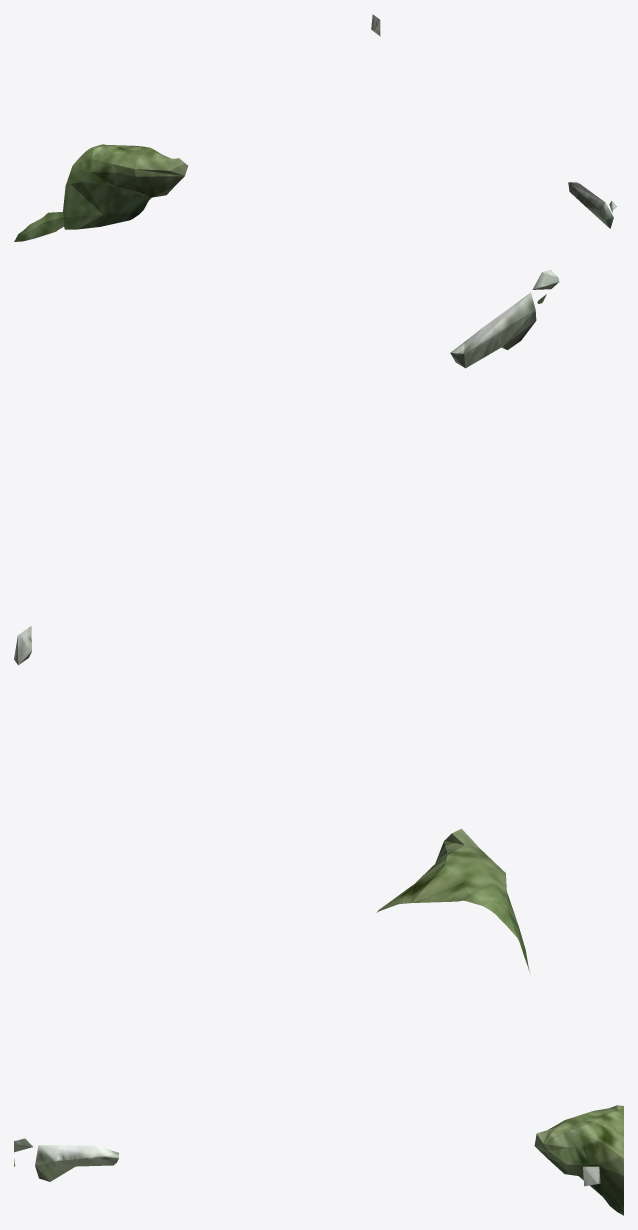
The picture shows the model from 3 angles, top to bottom: view 1: azimuth 30°, elevation 25°; view 2: azimuth 150°, elevation 25°; view 3: azimuth 270°, elevation 25°; orthographic projection. The views are drawn at different scales.
Size of the model in its own units: 4.24 by 1.91 by 5.9.
1 material, 1 textured.
